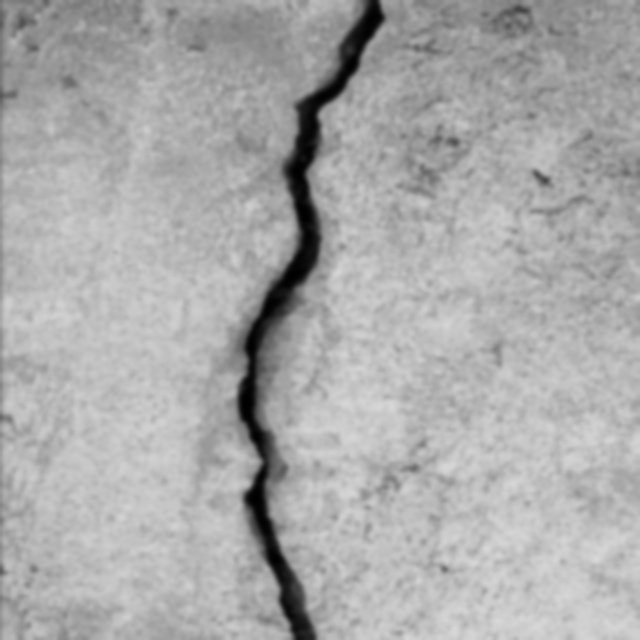SurfaceCrack: (193, 0, 430, 640)
